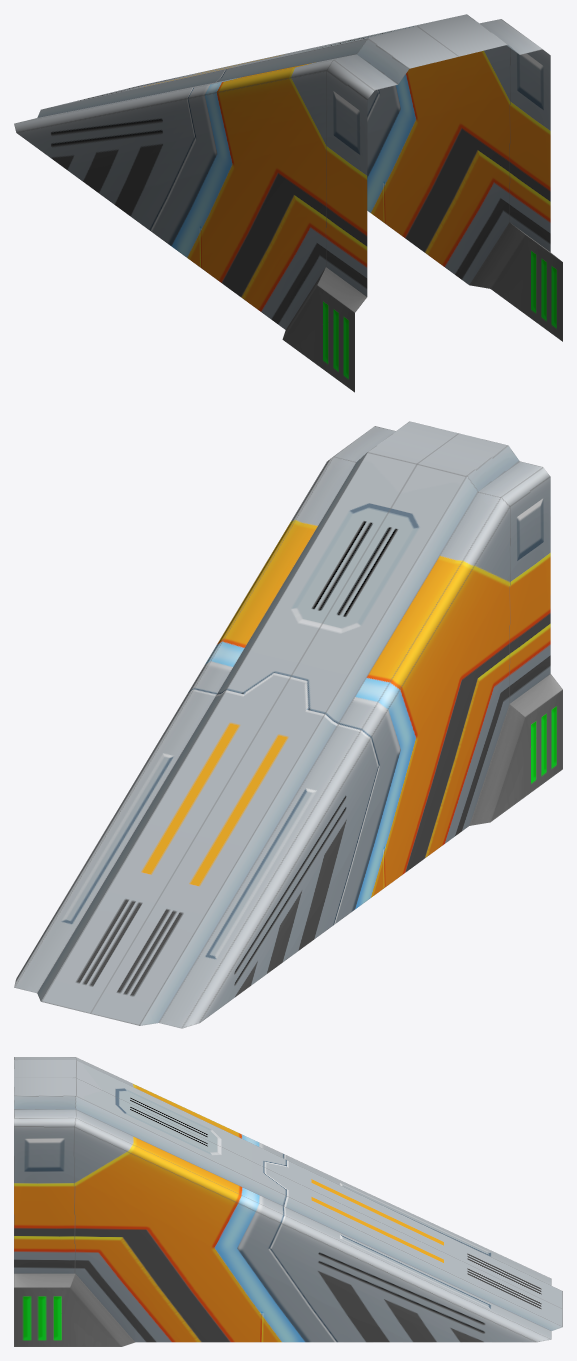
Rendered from Ramp_Train.fbx.
3 renders of one model, top to bottom at view 1: azimuth 30°, elevation 25°; view 2: azimuth 150°, elevation 25°; view 3: azimuth 270°, elevation 25°, orthographic. The views are drawn at different scales.
Parts seen in each view (by area): view 1: Ramp_Train; view 2: Ramp_Train; view 3: Ramp_Train.
Boxes of the visible parts, x1,y1,x2,y2 form: Ramp_Train: [14, 14, 562, 392]; Ramp_Train: [14, 421, 562, 1028]; Ramp_Train: [14, 1057, 562, 1346].
Size of the model in its own units: 549 by 784 by 1685.
